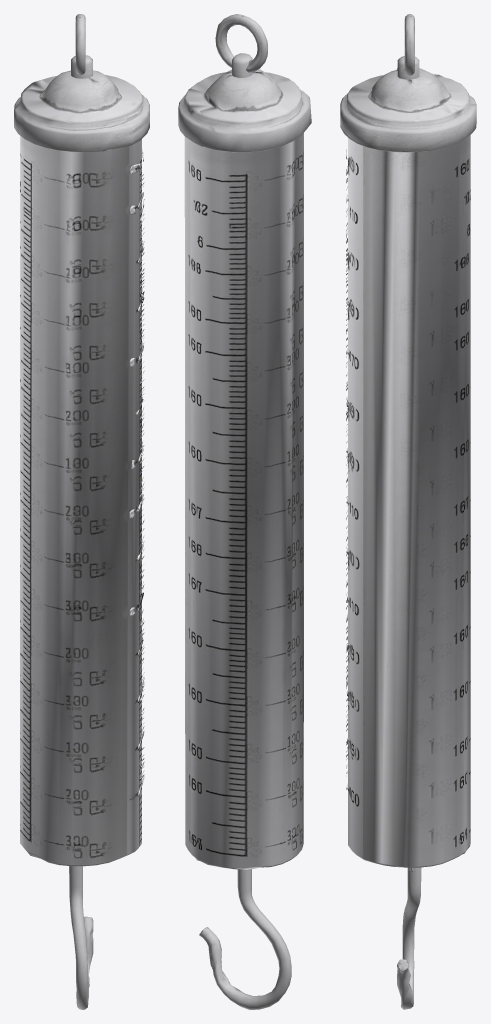
The model's file is dynamometer.glb.
3 views of the same model, side by side, from view 1: azimuth 90°, elevation 25°; view 2: azimuth 150°, elevation 25°; view 3: azimuth 270°, elevation 25° (orthographic).
Size of the model in its own units: 0.1108 by 0.9507 by 0.1186.
Materials: 1 (1 with a texture image).
